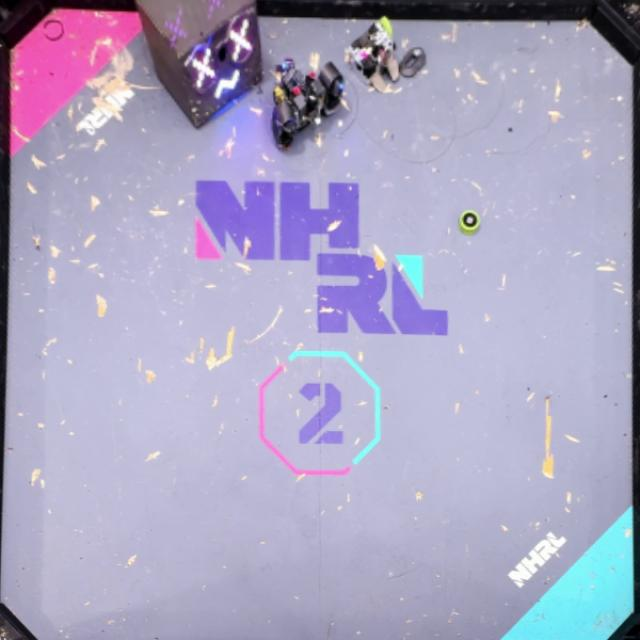housebot: (136, 0, 262, 129)
robot: (270, 56, 345, 150), (348, 16, 399, 92)
